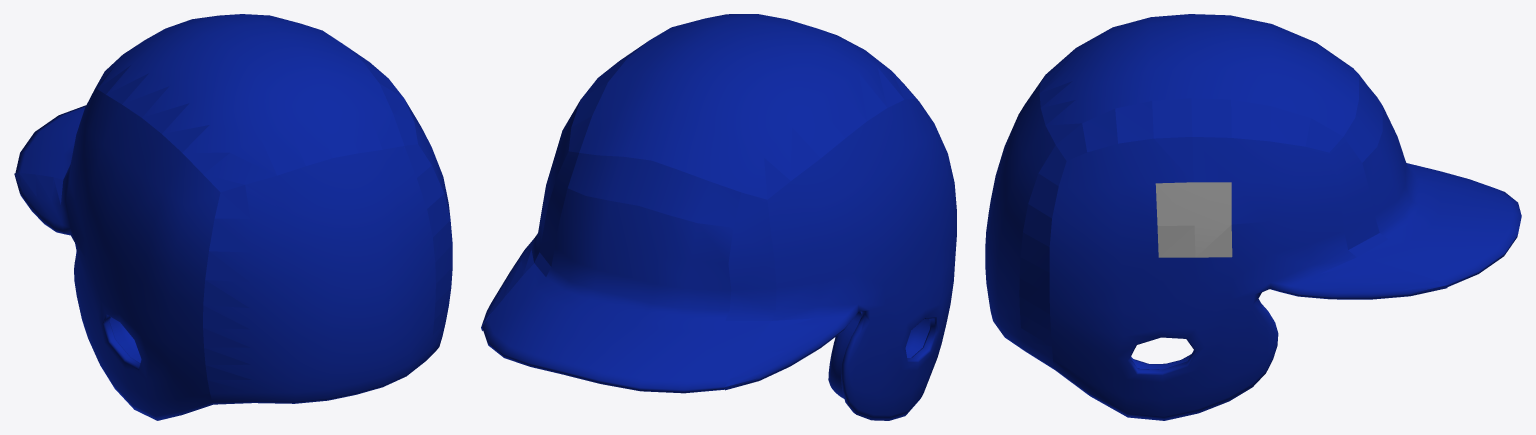
The model's file is Helmet.FBX.
The picture shows the model from 3 angles, left to right: view 1: azimuth 30°, elevation 25°; view 2: azimuth 150°, elevation 25°; view 3: azimuth 270°, elevation 25°; orthographic projection. The views are drawn at different scales.
Visible parts, largest first — view 1: batting_he; view 2: batting_he; view 3: batting_he, Object001.
Part boxes in pixels (box(x1,y1,x2,y2)): batting_he: box(14, 14, 452, 420); batting_he: box(481, 14, 956, 420); batting_he: box(985, 14, 1521, 420); Object001: box(1155, 182, 1232, 257).
Bounding box in the file's own units: 19.35 × 19.79 × 29.76.
